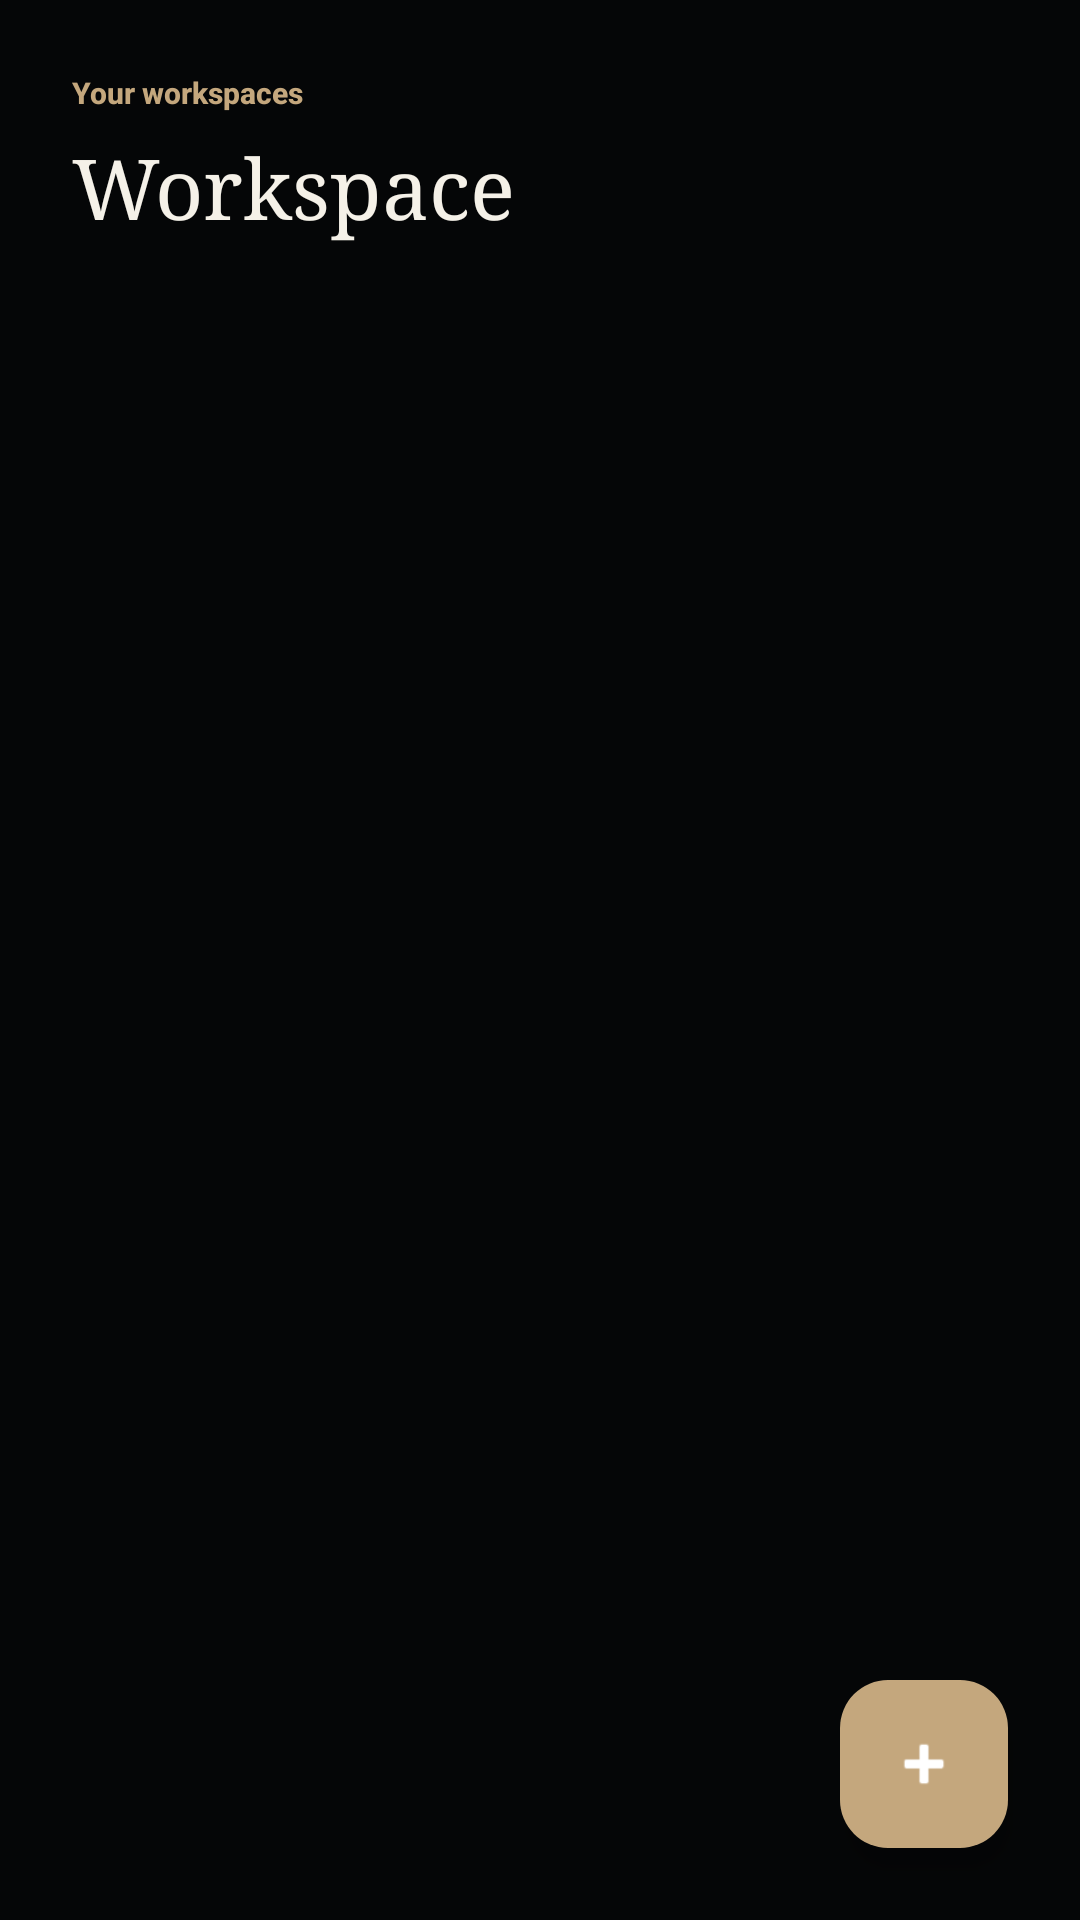

Icons on this 1080×1920 Android screen, each with its box as (x1, y1, x2, y2):
Thêm: (840, 1680, 1008, 1848)
